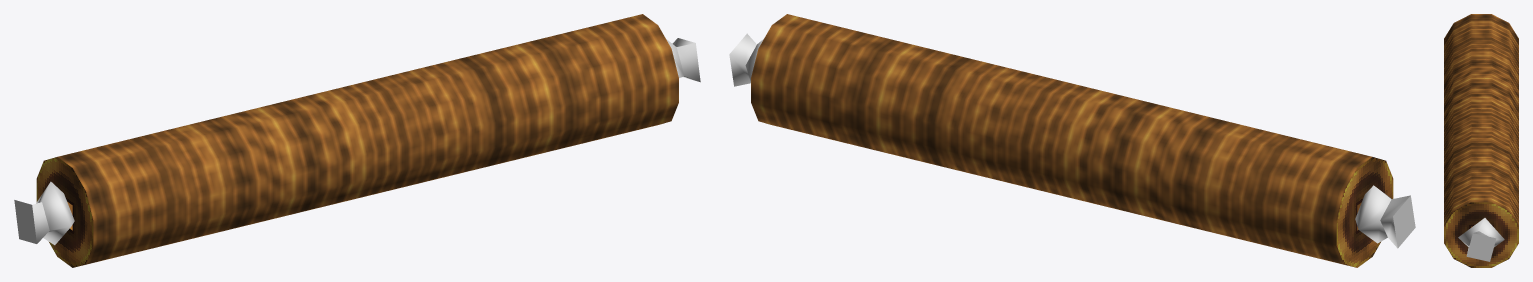
Rendered from coin_50.fbx.
3 views of the same model, side by side, from view 1: azimuth 30°, elevation 25°; view 2: azimuth 150°, elevation 25°; view 3: azimuth 270°, elevation 25° (orthographic). The views are drawn at different scales.
Visible parts, largest first — view 1: coin_50; view 2: coin_50; view 3: coin_50.
Boxes of the visible parts, x1,y1,x2,y2 form: coin_50: (14,14,700,267); coin_50: (729,14,1415,267); coin_50: (1444,14,1518,267).
Bounding box in the file's own units: 56.67 × 8.15 × 8.41.
